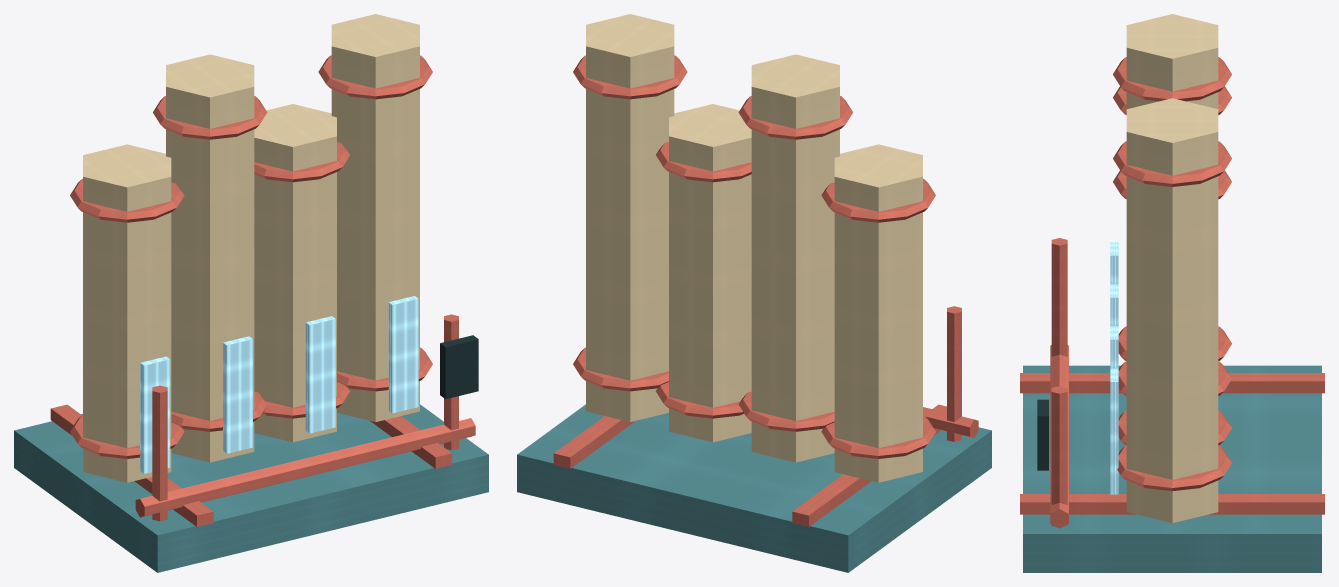
The model's file is atlas100-s072-a04.lod2.glb.
3 renders of one model, left to right at view 1: azimuth 30°, elevation 25°; view 2: azimuth 150°, elevation 25°; view 3: azimuth 270°, elevation 25°, orthographic. The views are drawn at different scales.
Visible parts, largest first — view 1: atlas100-s072-a04:part-000, atlas100-s072-a04:part-008, atlas100-s072-a04:part-018, atlas100-s072-a04:part-003, atlas100-s072-a04:part-013, atlas100-s072-a04:part-027, atlas100-s072-a04:part-022, atlas100-s072-a04:part-017, atlas100-s072-a04:part-012, atlas100-s072-a04:part-007, atlas100-s072-a04:part-026, atlas100-s072-a04:part-023 (+11 smaller); view 2: atlas100-s072-a04:part-000, atlas100-s072-a04:part-008, atlas100-s072-a04:part-018, atlas100-s072-a04:part-003, atlas100-s072-a04:part-013, atlas100-s072-a04:part-001, atlas100-s072-a04:part-023, atlas100-s072-a04:part-002, atlas100-s072-a04:part-020, atlas100-s072-a04:part-010, atlas100-s072-a04:part-005, atlas100-s072-a04:part-004 (+5 smaller); view 3: atlas100-s072-a04:part-018, atlas100-s072-a04:part-000, atlas100-s072-a04:part-008, atlas100-s072-a04:part-002, atlas100-s072-a04:part-001, atlas100-s072-a04:part-025, atlas100-s072-a04:part-023, atlas100-s072-a04:part-020, atlas100-s072-a04:part-019, atlas100-s072-a04:part-010, atlas100-s072-a04:part-027, atlas100-s072-a04:part-022 (+6 smaller).
Boxes of the visible parts, x1=… form: atlas100-s072-a04:part-000: x1=14, y1=404, x2=488, y2=572; atlas100-s072-a04:part-008: x1=166, y1=54, x2=254, y2=462; atlas100-s072-a04:part-018: x1=331, y1=14, x2=419, y2=421; atlas100-s072-a04:part-003: x1=83, y1=144, x2=171, y2=482; atlas100-s072-a04:part-013: x1=254, y1=104, x2=336, y2=442; atlas100-s072-a04:part-027: x1=135, y1=418, x2=475, y2=517; atlas100-s072-a04:part-022: x1=388, y1=296, x2=418, y2=413; atlas100-s072-a04:part-017: x1=305, y1=316, x2=335, y2=433; atlas100-s072-a04:part-012: x1=223, y1=336, x2=252, y2=453; atlas100-s072-a04:part-007: x1=140, y1=356, x2=170, y2=473; atlas100-s072-a04:part-026: x1=440, y1=335, x2=478, y2=399; atlas100-s072-a04:part-023: x1=152, y1=385, x2=167, y2=521; atlas100-s072-a04:part-000: x1=517, y1=404, x2=991, y2=572; atlas100-s072-a04:part-008: x1=751, y1=54, x2=839, y2=462; atlas100-s072-a04:part-018: x1=586, y1=14, x2=674, y2=421; atlas100-s072-a04:part-003: x1=834, y1=144, x2=922, y2=482; atlas100-s072-a04:part-013: x1=669, y1=104, x2=751, y2=442; atlas100-s072-a04:part-001: x1=792, y1=404, x2=946, y2=526; atlas100-s072-a04:part-023: x1=947, y1=306, x2=961, y2=441; atlas100-s072-a04:part-002: x1=553, y1=416, x2=635, y2=468; atlas100-s072-a04:part-020: x1=573, y1=55, x2=687, y2=99; atlas100-s072-a04:part-010: x1=738, y1=96, x2=852, y2=139; atlas100-s072-a04:part-005: x1=821, y1=179, x2=935, y2=222; atlas100-s072-a04:part-004: x1=821, y1=415, x2=935, y2=458; atlas100-s072-a04:part-018: x1=1126, y1=98, x2=1218, y2=523; atlas100-s072-a04:part-000: x1=1023, y1=365, x2=1321, y2=572; atlas100-s072-a04:part-008: x1=1126, y1=14, x2=1218, y2=108; atlas100-s072-a04:part-002: x1=1020, y1=494, x2=1324, y2=514; atlas100-s072-a04:part-001: x1=1020, y1=373, x2=1324, y2=393; atlas100-s072-a04:part-025: x1=1051, y1=386, x2=1067, y2=526; atlas100-s072-a04:part-023: x1=1051, y1=238, x2=1067, y2=356; atlas100-s072-a04:part-020: x1=1113, y1=141, x2=1231, y2=186; atlas100-s072-a04:part-019: x1=1117, y1=445, x2=1231, y2=491; atlas100-s072-a04:part-010: x1=1113, y1=57, x2=1231, y2=101; atlas100-s072-a04:part-027: x1=1050, y1=345, x2=1068, y2=528; atlas100-s072-a04:part-022: x1=1110, y1=368, x2=1118, y2=494.
Size of the model in its own units: 2.52 by 2.87 by 1.84.
5 materials, 5 textured.
